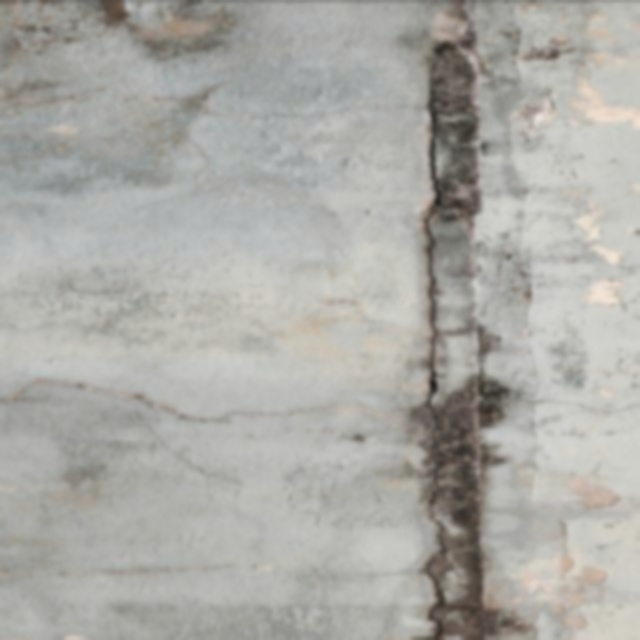SurfaceCrack: (387, 0, 538, 598)
